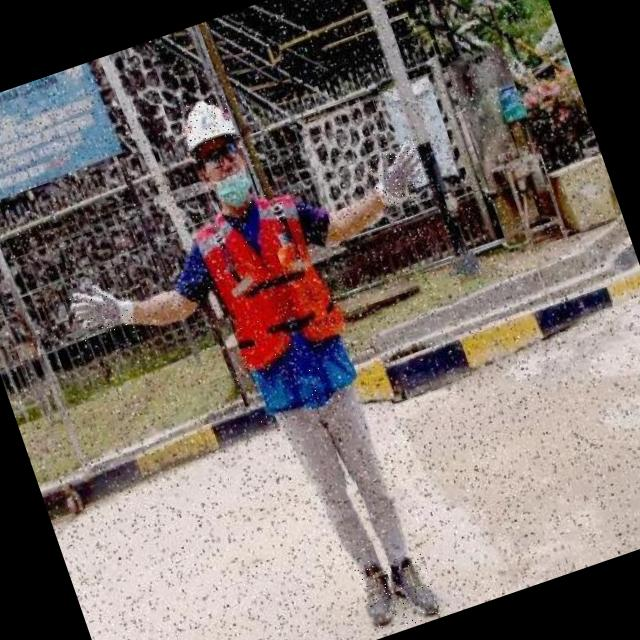hard_hat: (174, 92, 241, 155)
safety_vest: (182, 176, 376, 428)
work_boots: (382, 549, 442, 626), (349, 556, 404, 632)
